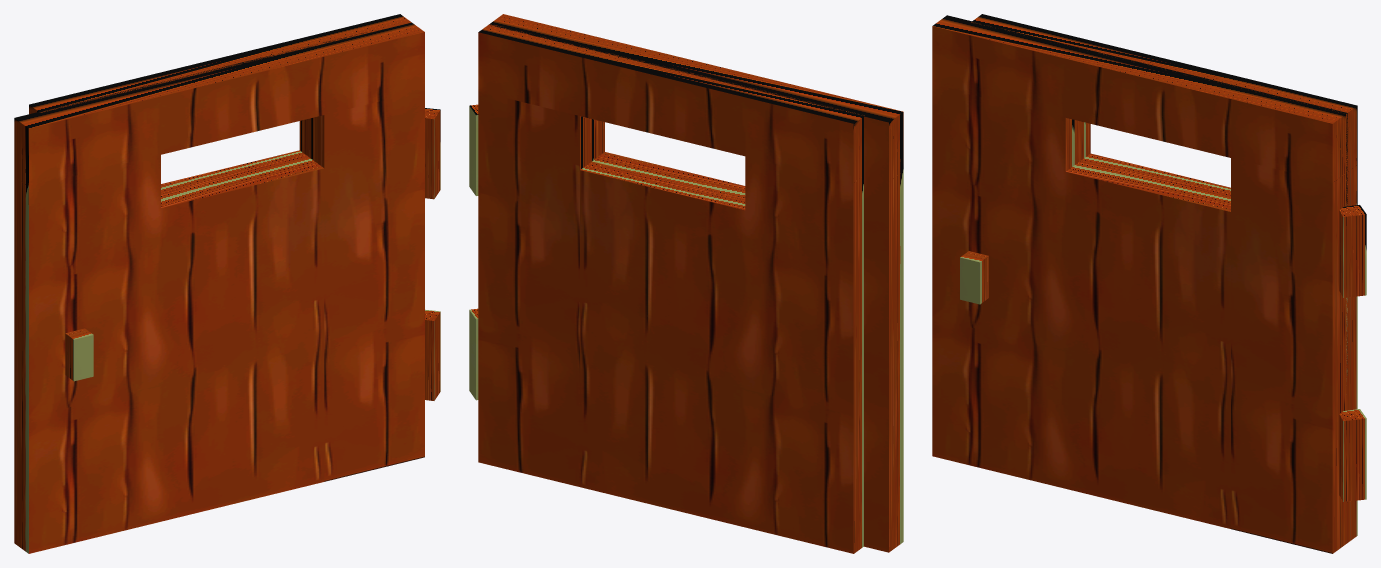
File: Door.glb
3 views of the same model, side by side, from view 1: azimuth 30°, elevation 25°; view 2: azimuth 150°, elevation 25°; view 3: azimuth 330°, elevation 25° (orthographic).
Visible parts, largest first — view 1: Door; view 2: Door; view 3: Door.
Boxes of the visible parts, box(x1,y1,x2,y2) form: Door: box(14, 14, 440, 553); Door: box(469, 14, 903, 553); Door: box(932, 14, 1366, 553).
Bounding box in the file's own units: 82.83 × 80 × 11.4.
Materials: 1 (1 with a texture image).
